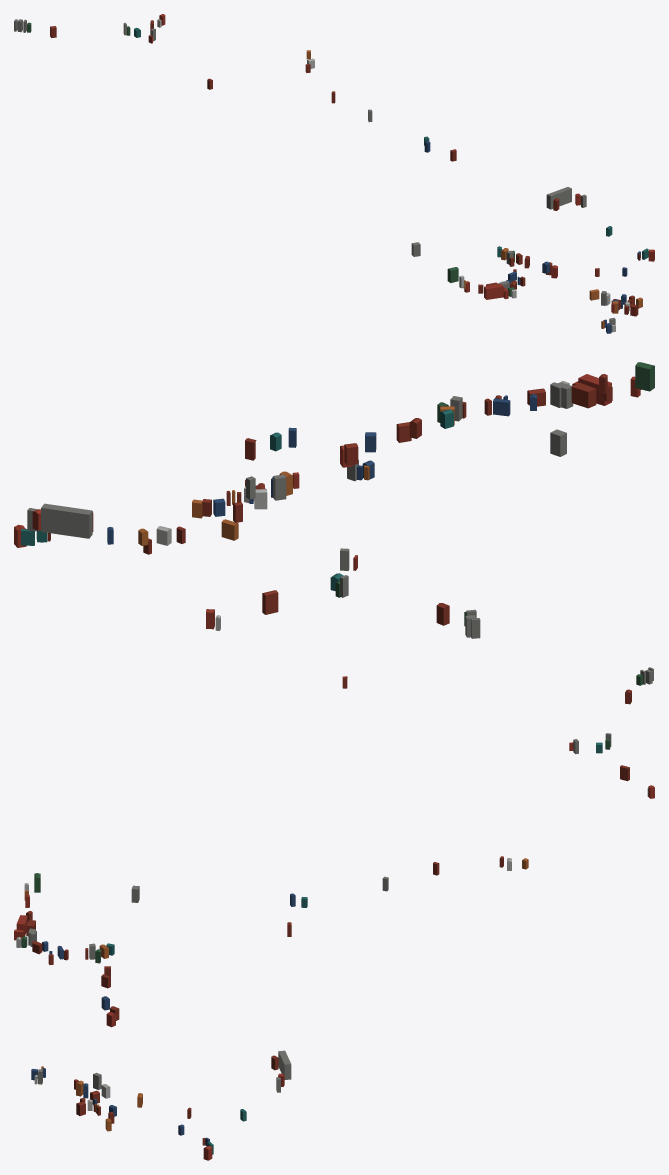
File: near-15-27365-14881.6e3db522.glb
3 renders of one model, top to bottom at view 1: azimuth 30°, elevation 25°; view 2: azimuth 150°, elevation 25°; view 3: azimuth 270°, elevation 25°, orthographic. The views are drawn at different scales.
Size of the model in its own units: 1066 by 527 by 1139.
